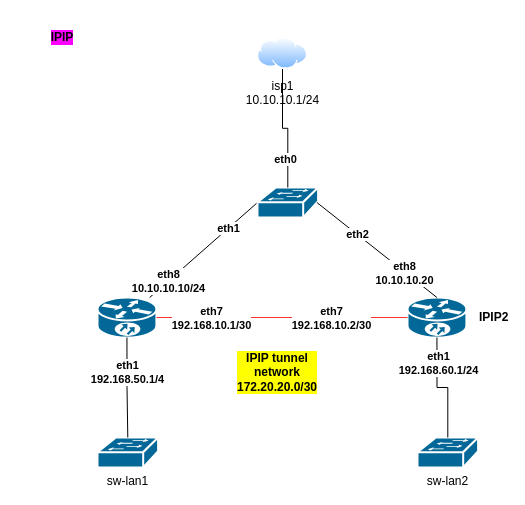
Image size: 525x505. Some labels were removed from this diagram. Each missing label, with the box of its shape:
IPIP1: (96, 296, 157, 338)
sw-remote: (256, 186, 319, 218)
